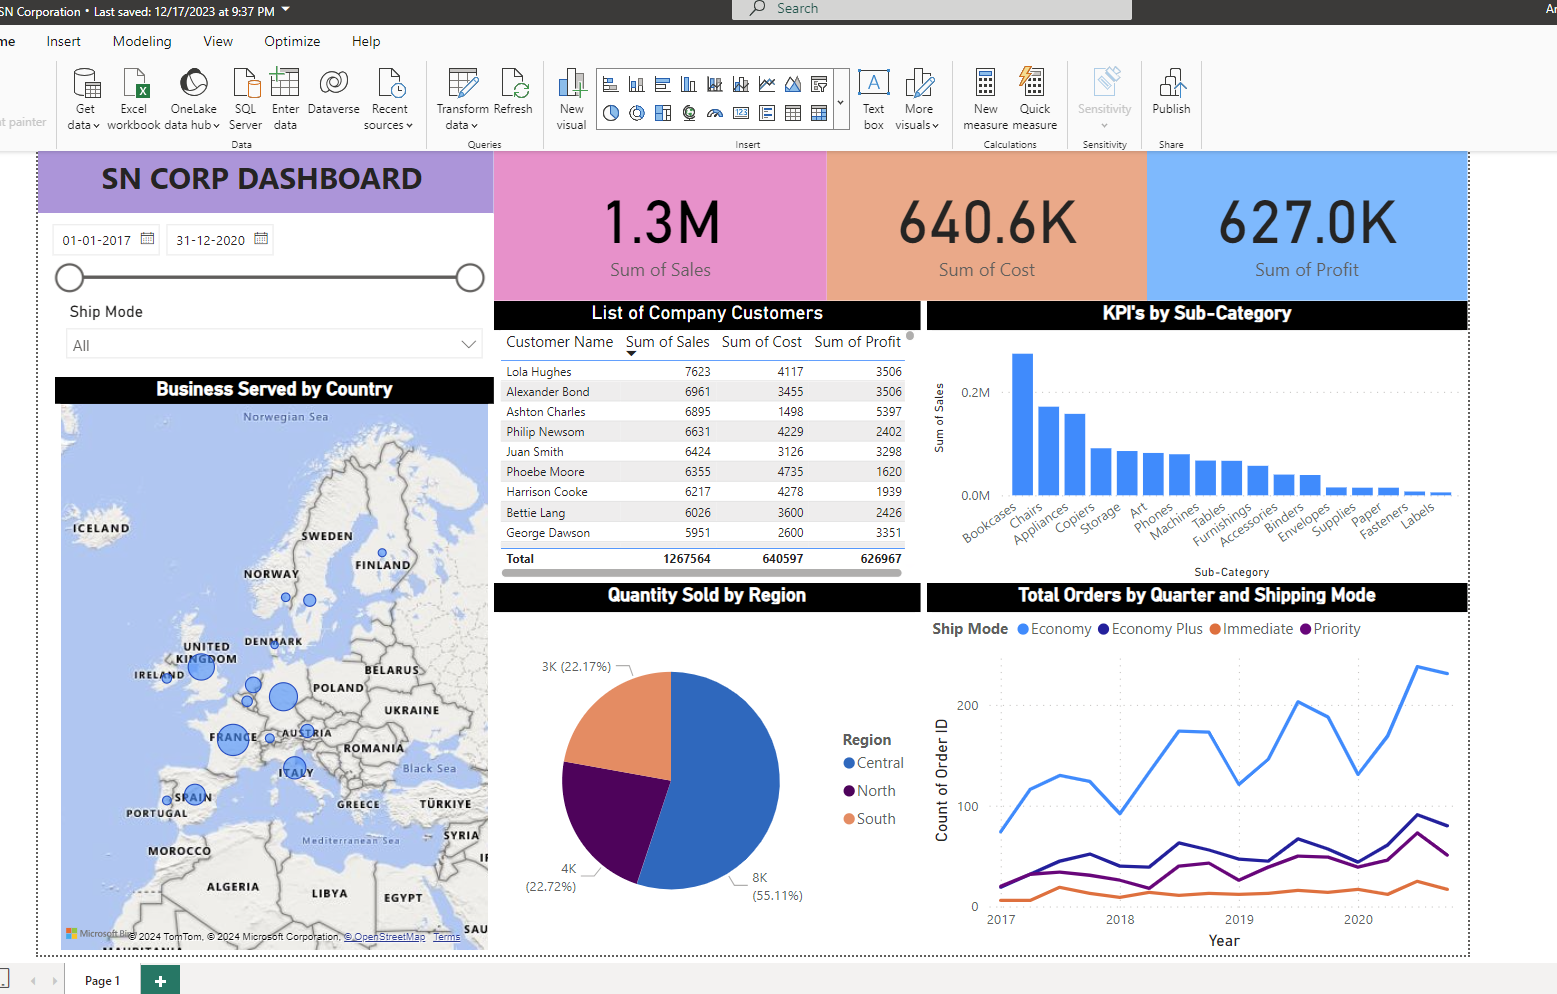

Layout of this report page (visuals, bound fields, positions):
{"tool":"powerbi","page":{"name":"Page 1","canvas":[1280,720],"ordinal":0},"visuals":[{"type":"tableEx","title":"List of Company Customers","fields":{"Values":["List of Orders.Customer Name","List of Orders.Sales","List of Orders.Cost","List of Orders.Profit"]},"box":[408,134,382,253],"z":0},{"type":"columnChart","title":"KPI''s by Sub-Category","fields":{"Category":["List of Orders.Sub-Category"],"Y":["List of Orders.Sales"]},"box":[796,134,484,253],"z":1000},{"type":"lineChart","title":"Total Orders by Quarter and Shipping Mode","fields":{"Y":["List of Orders.Order ID"],"Category":["List of Orders.Order Date.Variation.Date Hierarchy.Year","List of Orders.Order Date.Variation.Date Hierarchy.Quarter"],"Series":["List of Orders.Ship Mode"]},"box":[796,387,484,333],"z":2000},{"type":"pieChart","title":"Quantity Sold by Region","fields":{"Category":["List of Orders.Region"],"Y":["List of Orders.Quantity"]},"box":[408,387,382,333],"z":3000},{"type":"map","title":"Business Served by Country","fields":{"Category":["List of Orders.Country"],"Size":["List of Orders.Quantity"]},"box":[15.2,202.4,393.1,517.6],"z":4000},{"type":"textbox","box":[0,0,408.4,55.5],"z":5000},{"type":"slicer","fields":{"Values":["List of Orders.Order Date"]},"box":[0,55.5,408.4,75.2],"z":6000},{"type":"slicer","fields":{"Values":["List of Orders.Ship Mode"]},"box":[15.2,130.7,393.1,60.9],"z":7000},{"type":"card","fields":{"Values":["List of Orders.Sales"]},"box":[408.4,0,298.2,134.3],"z":8000},{"type":"card","fields":{"Values":["List of Orders.Cost"]},"box":[706.6,0,286.6,134.3],"z":9000},{"type":"card","fields":{"Values":["List of Orders.Profit"]},"box":[993.1,0,286.6,134.3],"z":10000}]}

Visuals, with their boxes on the page's 1280x720 design canvas (x1, y1, x2, y2). These are canvas units, not pixel positions in the 1557x994 screenshot, which may show the page scaled, cropped or inside an application window:
"List of Company Customers" tableEx: region(408, 134, 790, 387)
"KPI''s by Sub-Category" columnChart: region(796, 134, 1280, 387)
"Total Orders by Quarter and Shipping Mode" lineChart: region(796, 387, 1280, 720)
"Quantity Sold by Region" pieChart: region(408, 387, 790, 720)
"Business Served by Country" map: region(15, 202, 408, 720)
textbox: region(0, 0, 408, 56)
slicer - List of Orders.Order Date: region(0, 56, 408, 131)
slicer - List of Orders.Ship Mode: region(15, 131, 408, 192)
card - List of Orders.Sales: region(408, 0, 707, 134)
card - List of Orders.Cost: region(707, 0, 993, 134)
card - List of Orders.Profit: region(993, 0, 1280, 134)
